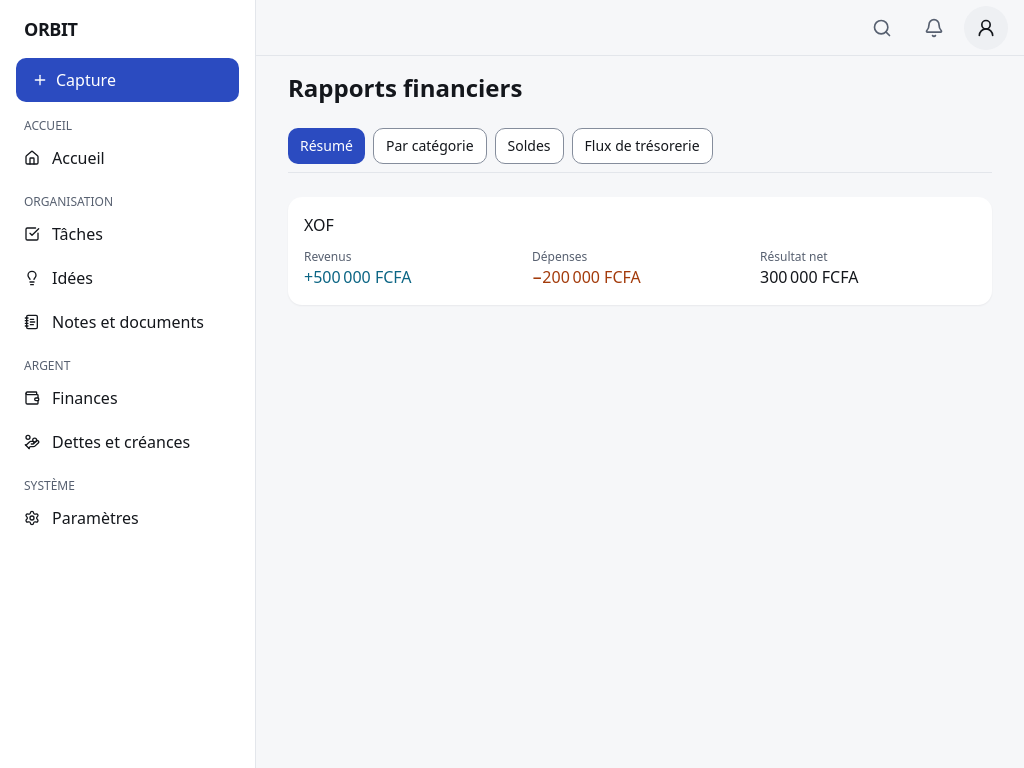
it: Finance - Reports (/finance/reports) › renders summary, breakdown, balances, and cashflow reports
Expected: the heading "Rapports financiers" is shown, [288,72,522,104]
Expected: the heading "XOF" is shown, [304,214,334,236]
What coordinates should you click on to do the following:
click the button "Par catégorie"
I would click on:
 (430, 146)
Its box is [373,128,487,164].
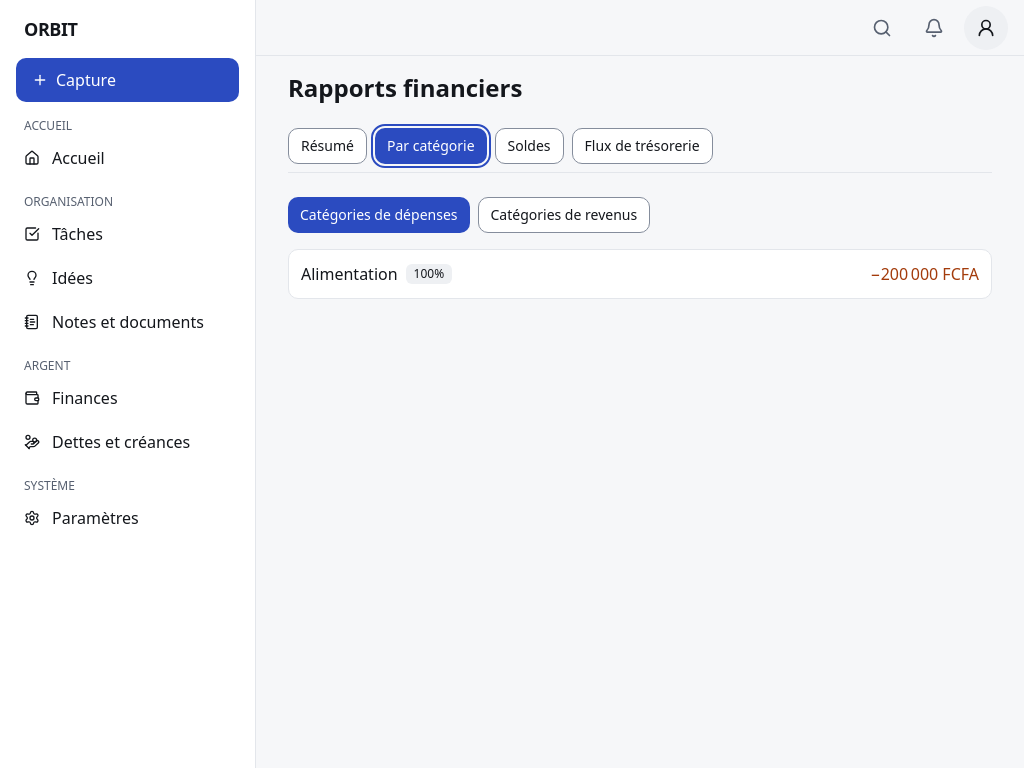
Expected: the text "Alimentation" is shown, [301,262,398,286]
What coordinates should you click on to do the following:
click the button "Catégories de revenus"
I would click on:
 (564, 215)
Its box is [478,197,650,233].
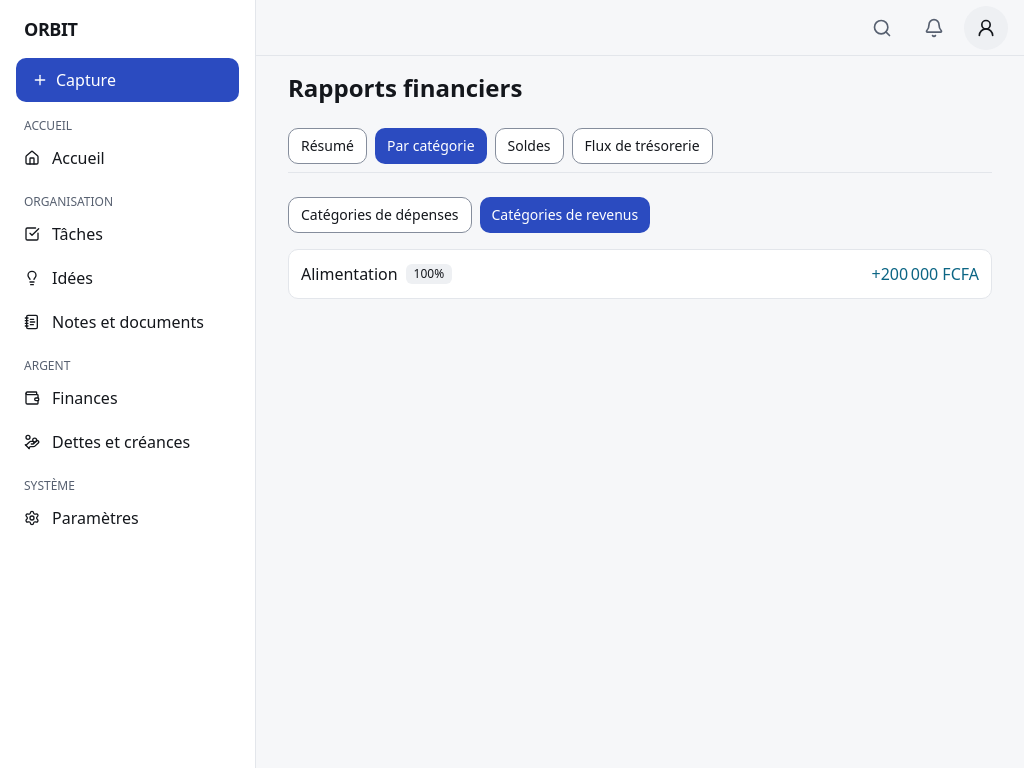
What coordinates should you click on to do the following:
click the button "Catégories de dépenses"
I would click on:
 (380, 215)
Its box is [288,197,472,233].
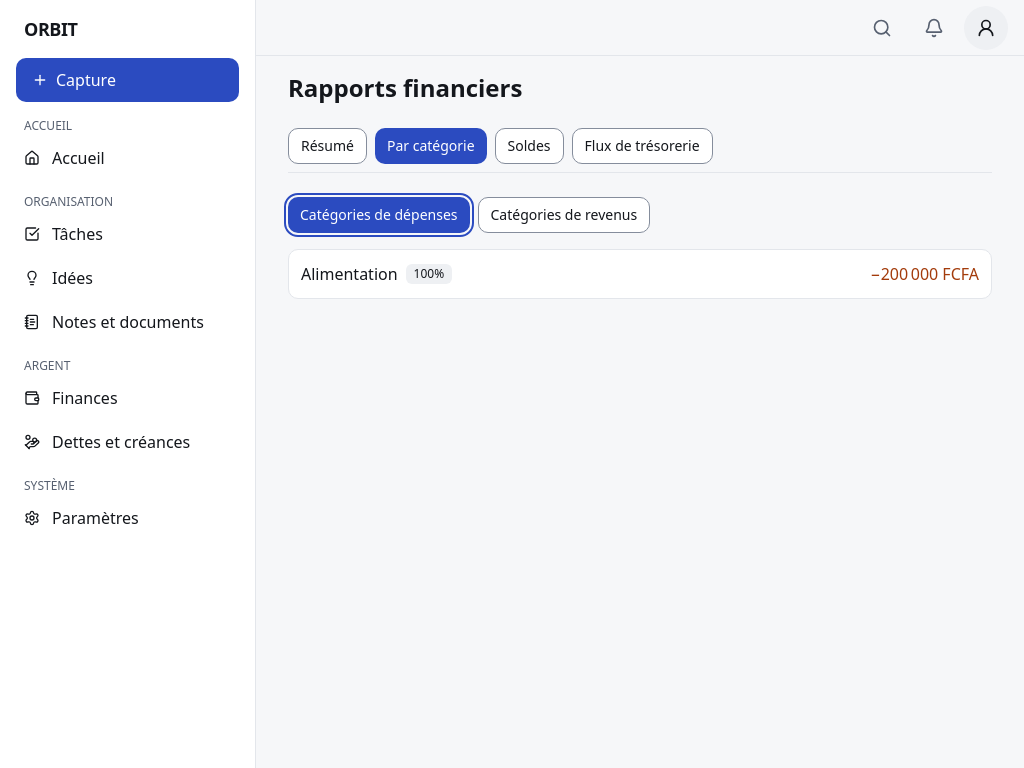
What coordinates should you click on to do the following:
click the button "Soldes"
I would click on:
 (529, 146)
Its box is [495,128,564,164].
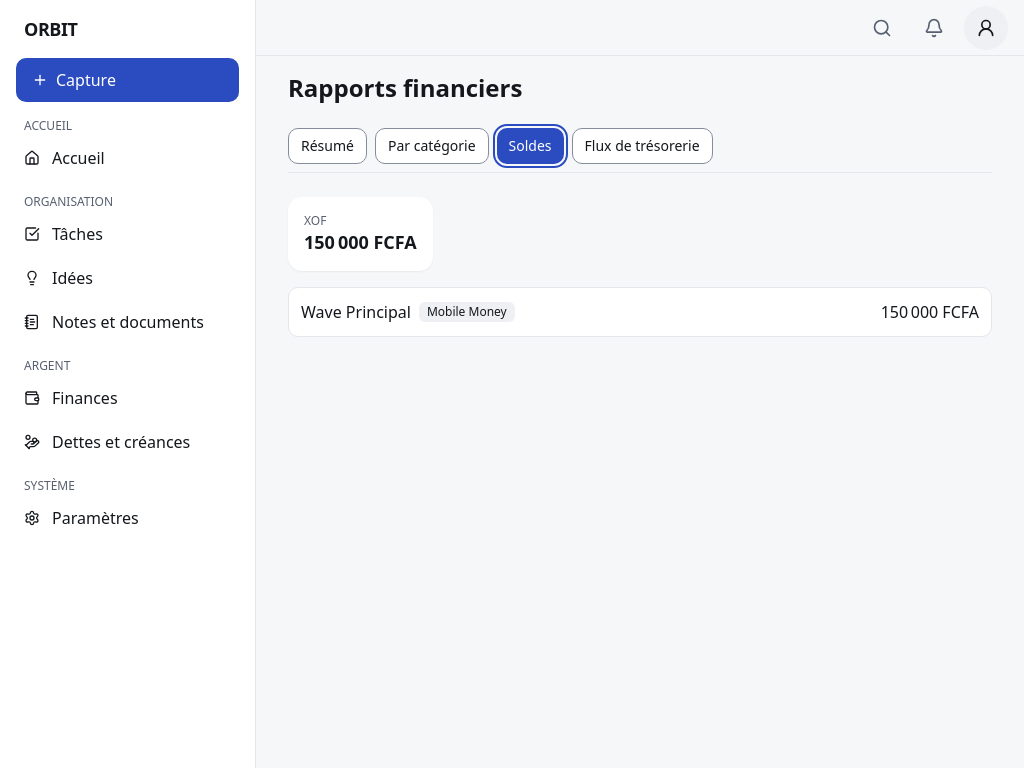
Expected: the text "Wave Principal" is shown, [301,300,411,324]
What coordinates should you click on to do the following:
click the button "Flux de trésorerie"
I would click on:
 (642, 146)
Its box is [572,128,713,164].
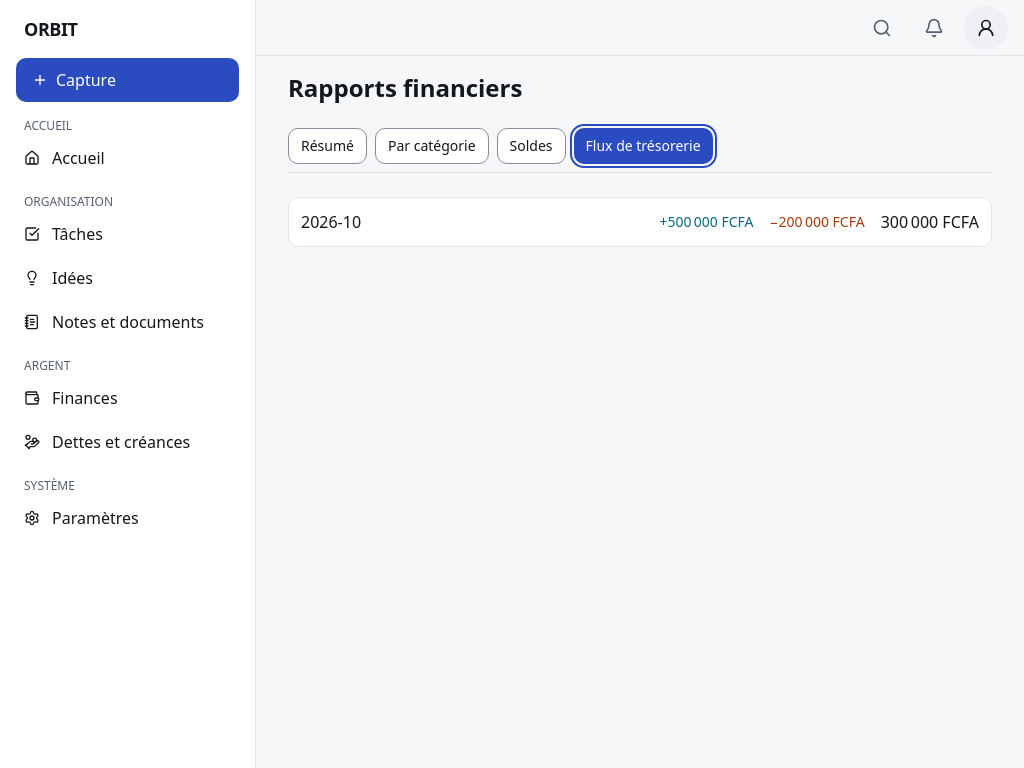
Expected: the text "2026-10" is shown, [301,210,361,234]
